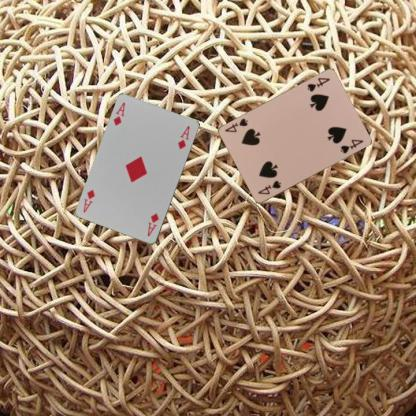4s: (305, 75, 331, 94), (255, 178, 282, 196)
Ad: (145, 210, 160, 238), (111, 100, 126, 127)
